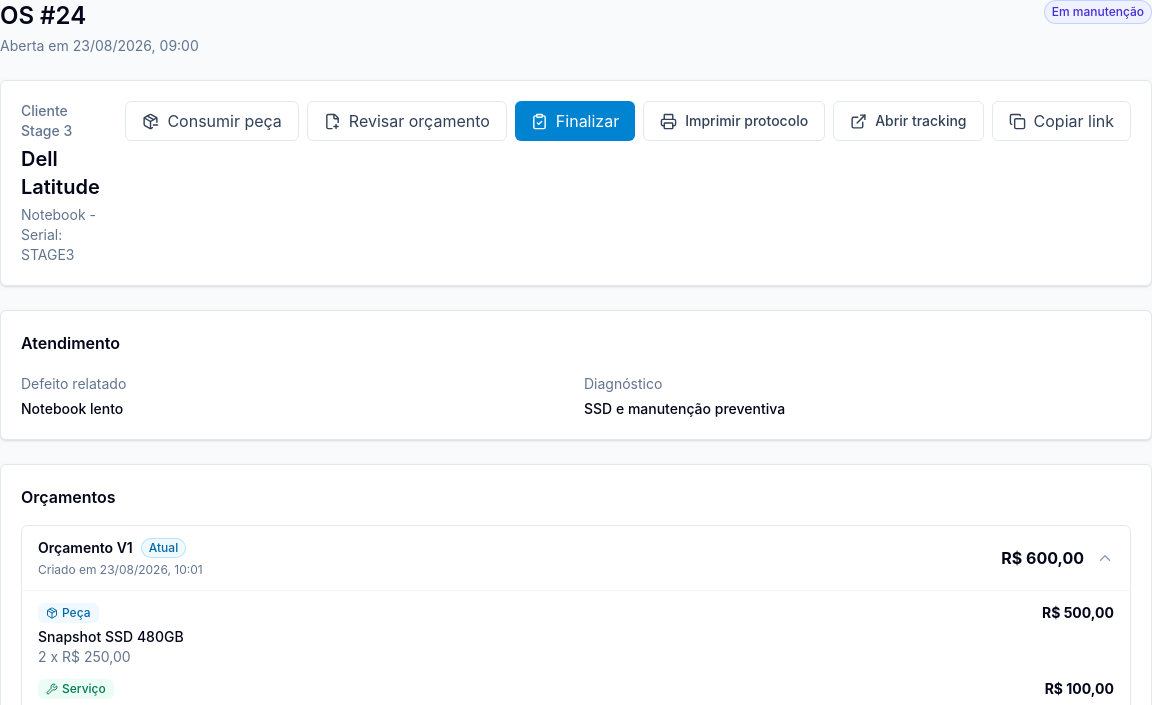
it: ServiceOrderDetailPage mixed budget flows › handles stale revision 409, refetches, and preserves the session
Expected: the heading "OS #24" is shown, x1=0 y1=1 x2=86 y2=30
Click the button "Revisar orçamento" at (407, 121), box x1=307 y1=101 x2=507 y2=141
(page scrolled)
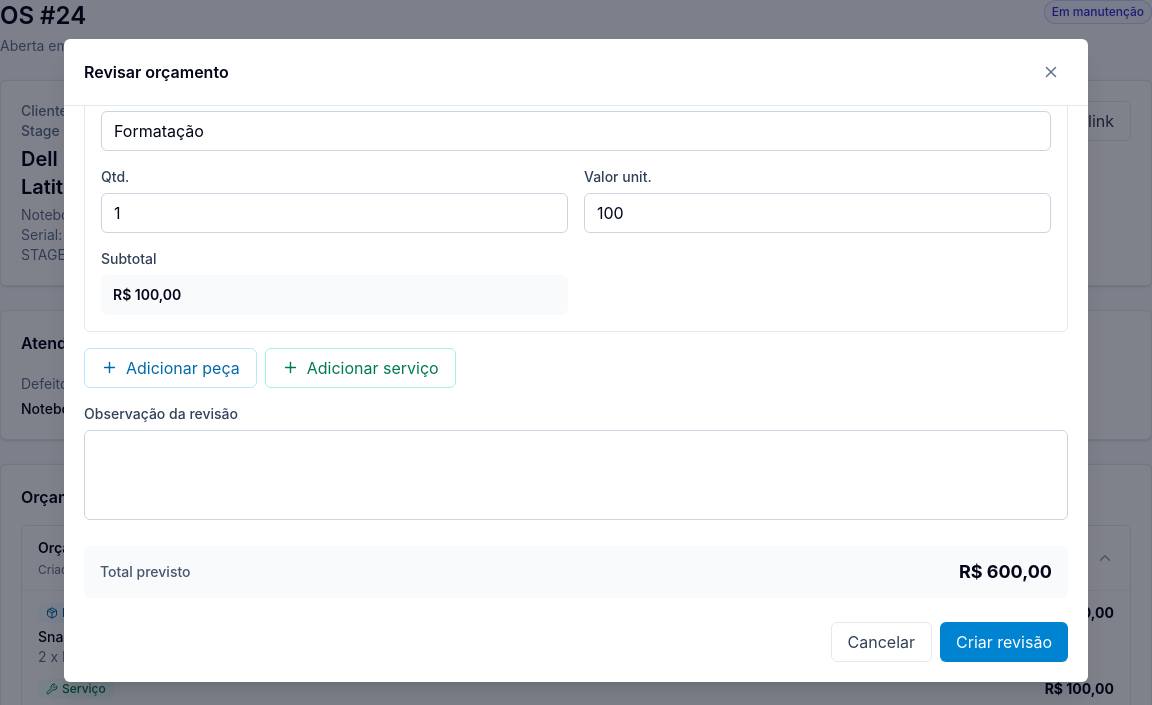
Click the button "Criar revisão" at (1004, 642), box x1=940 y1=622 x2=1068 y2=662
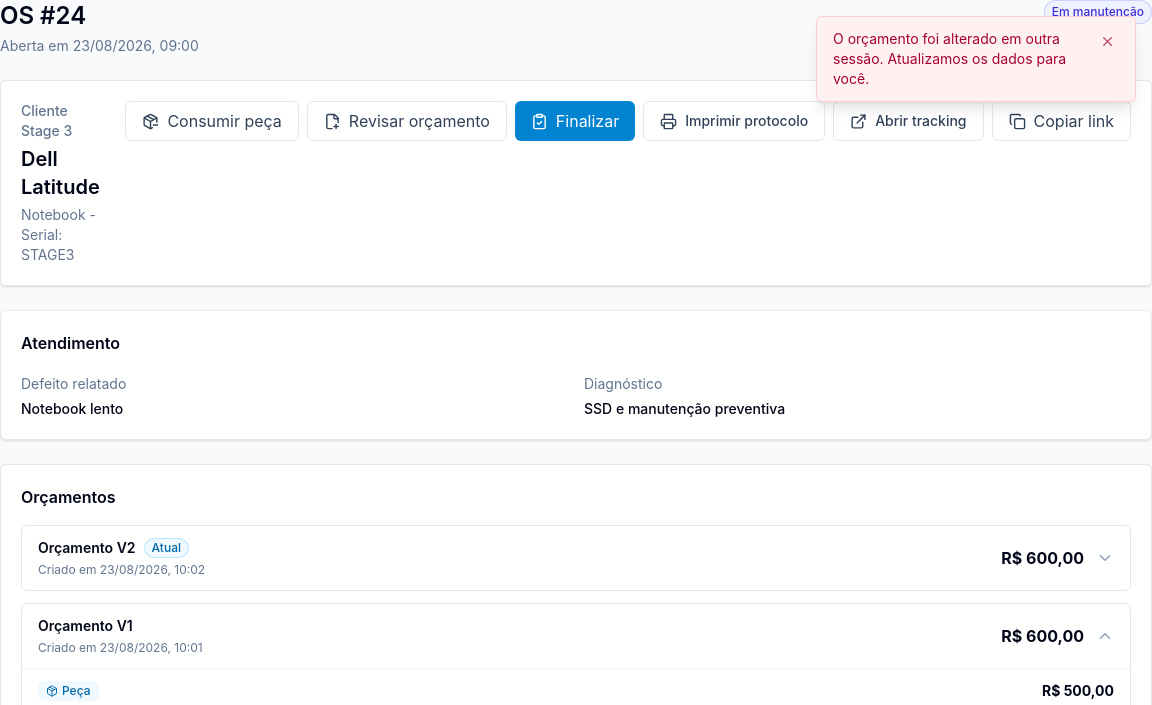
Expected: the heading "OS #24" is shown, x1=0 y1=1 x2=86 y2=30
Expected: the text "alterado em outra sessão" is shown, x1=833 y1=30 x2=1066 y2=87
Expected: the text "Orçamento V2" is shown, x1=38 y1=538 x2=136 y2=558
